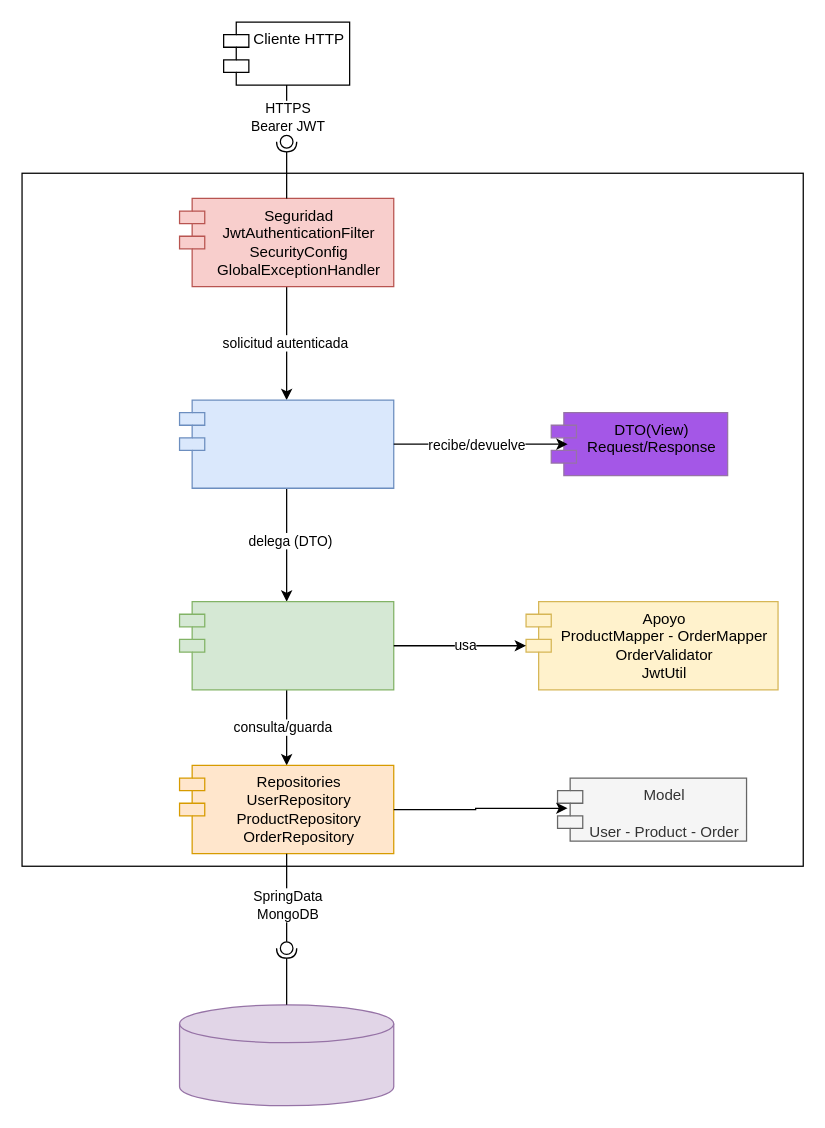
Some shapes in this 825 by 1128 pixel diagram are drawn without their labels. The shapes that lost their labels are listed below. From the top down, each one's centre as x and y in pixels, then its label:
At pixel 286 443: "Controllers AuthController ProductController OrderController".
At pixel 286 645: "Services AuthService ProductService OrderService".
At pixel 286 1055: "MongoDB".
